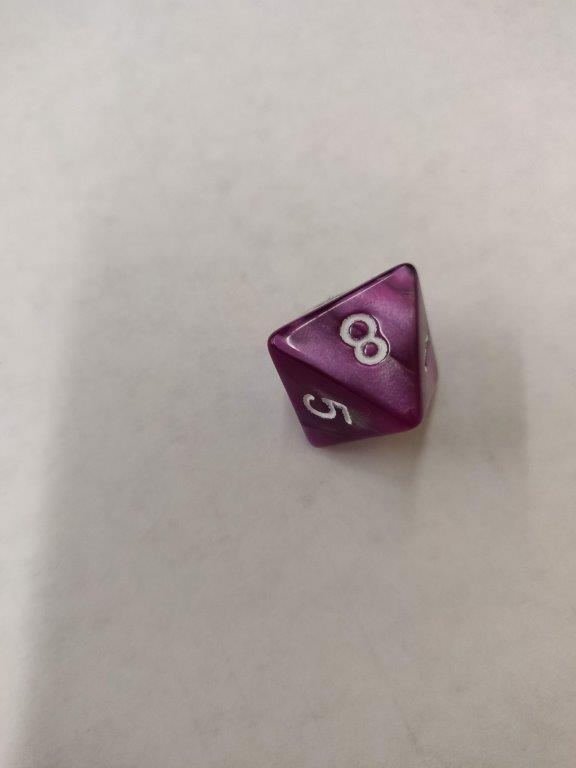d8-8: (267, 262, 440, 446)
